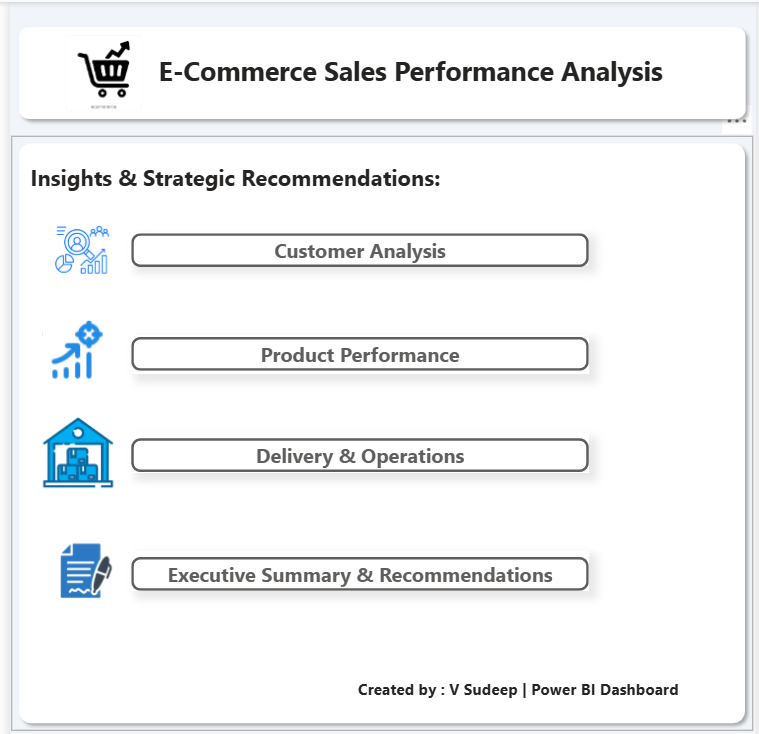

What the dashboard file says about the page in this screenshot:
{"tool":"powerbi","page":{"name":"Home Page","canvas":[900,900],"ordinal":0},"visuals":[{"type":"textbox","box":[27,21,128,129],"z":0},{"type":"shape","box":[1.5,161.4,894.3,717.8],"z":1000},{"type":"textbox","box":[19,188,649,70],"z":2000},{"type":"textbox","box":[147,278,551,40],"z":3000},{"type":"textbox","box":[146.3,401,551.9,48],"z":4000},{"type":"textbox","box":[147,520.3,551.9,48],"z":5000},{"type":"actionButton","box":[147,404.2,551.9,40.7],"z":6000},{"type":"actionButton","box":[146,526.3,551.9,40.7],"z":8000},{"type":"textbox","box":[147,662,551.9,48.3],"z":9000},{"type":"actionButton","box":[147,669.6,551.9,40.7],"z":10000},{"type":"textbox","box":[389,811,490,46],"z":11000},{"type":"actionButton","box":[30.2,375.5,96,91],"z":12000},{"type":"actionButton","box":[147,279,551.9,40.7],"z":13000},{"type":"actionButton","box":[31.7,493.1,126.7,101],"z":14000},{"type":"actionButton","box":[46.7,640.9,96.5,90.5],"z":15000},{"type":"actionButton","box":[12.1,223.2,143.3,152.3],"z":16000},{"type":"shape","box":[1,21.1,895,129],"z":17000},{"type":"textbox","box":[158.3,48.3,650,72.4],"z":18000},{"type":"actionButton","box":[61.8,34.7,162.9,102.5],"z":19000}]}

Visuals, with their boxes on the page's 900x900 design canvas (x1, y1, x2, y2). These are canvas units, not pixel positions in the 759x734 screenshot, which may show the page scaled, cropped or inside an application window:
textbox: box(27, 21, 155, 150)
shape: box(2, 161, 896, 879)
textbox: box(19, 188, 668, 258)
textbox: box(147, 278, 698, 318)
textbox: box(146, 401, 698, 449)
textbox: box(147, 520, 699, 568)
actionButton: box(147, 404, 699, 445)
actionButton: box(146, 526, 698, 567)
textbox: box(147, 662, 699, 710)
actionButton: box(147, 670, 699, 710)
textbox: box(389, 811, 879, 857)
actionButton: box(30, 376, 126, 466)
actionButton: box(147, 279, 699, 320)
actionButton: box(32, 493, 158, 594)
actionButton: box(47, 641, 143, 731)
actionButton: box(12, 223, 155, 376)
shape: box(1, 21, 896, 150)
textbox: box(158, 48, 808, 121)
actionButton: box(62, 35, 225, 137)
